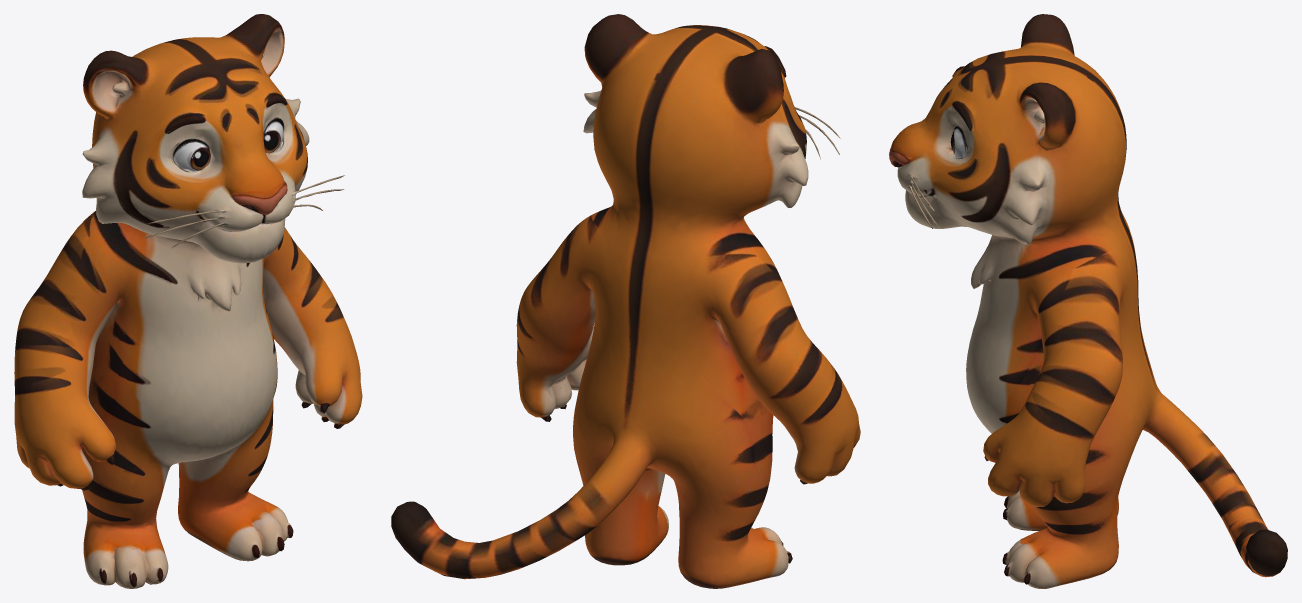
The model's file is tiger.glb.
3 views of the same model, side by side, from view 1: azimuth 30°, elevation 25°; view 2: azimuth 150°, elevation 25°; view 3: azimuth 270°, elevation 25° (orthographic). The views are drawn at different scales.
Visible parts, largest first — view 1: tripo_node_ea2293d4-0021-4371-8237-c541c8bc23fd; view 2: tripo_node_ea2293d4-0021-4371-8237-c541c8bc23fd; view 3: tripo_node_ea2293d4-0021-4371-8237-c541c8bc23fd.
Boxes of the visible parts, box(x1,y1,x2,y2) form: tripo_node_ea2293d4-0021-4371-8237-c541c8bc23fd: box(14, 14, 362, 588); tripo_node_ea2293d4-0021-4371-8237-c541c8bc23fd: box(391, 14, 860, 588); tripo_node_ea2293d4-0021-4371-8237-c541c8bc23fd: box(889, 14, 1287, 588).
Size of the model in its own units: 0.6707 by 0.9797 by 0.7103.
1 material, 1 textured.
